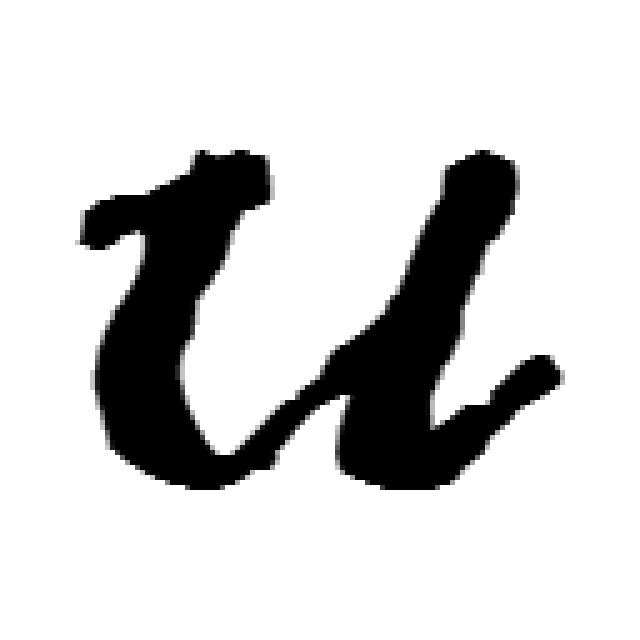U: (82, 168, 568, 510)
